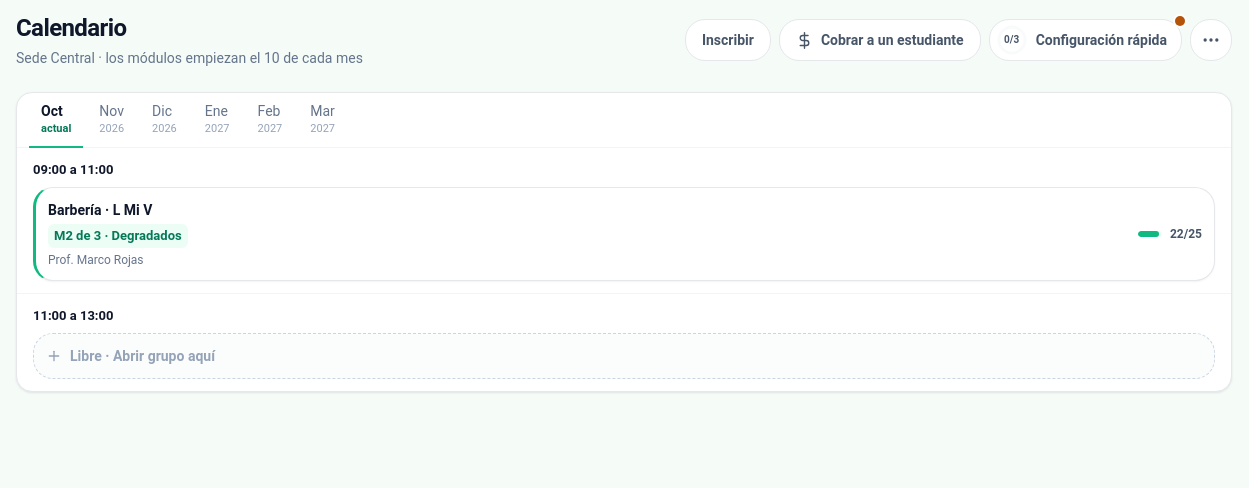
Scenario: N1 · Calendario › en el celular, una pestaña por mes y las franjas una debajo de la otra
The image size is (1249, 488).
Expected: the element "09:00 a 11:00" shows "M2 de 3 · Degradados", [17,148,1231,294]
Click the tab "nov 2026".
click(112, 120)  # box [87,93,136,148]
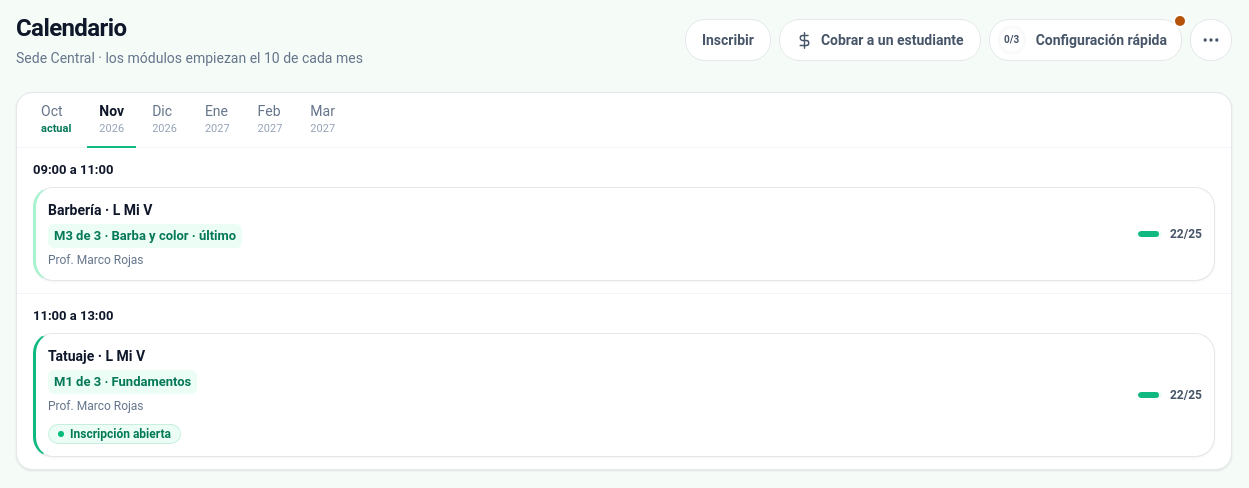
Now the element "11:00 a 13:00" shows "Fundamentos", box [33,333,1215,456]
